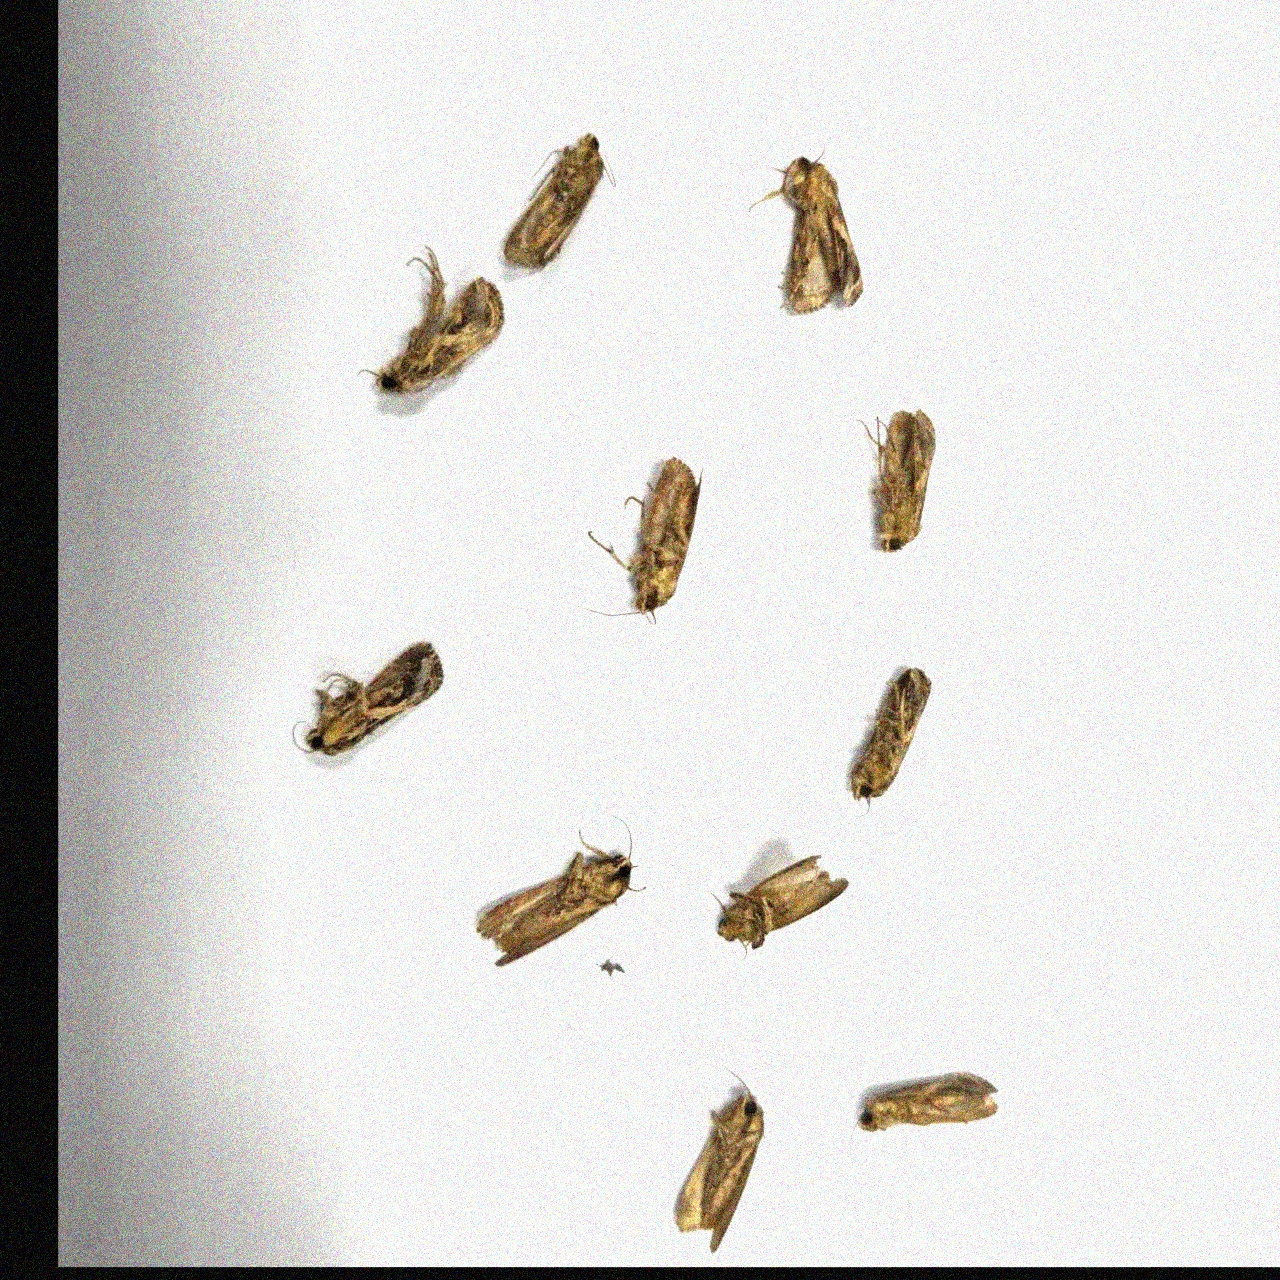Spodoptera litura: (476, 798, 647, 966), (356, 244, 505, 396), (573, 455, 703, 626), (745, 132, 864, 316), (675, 1040, 765, 1253), (686, 855, 850, 972), (850, 1070, 1000, 1189), (292, 641, 444, 756), (503, 134, 617, 274), (828, 667, 932, 817), (855, 408, 937, 554)
